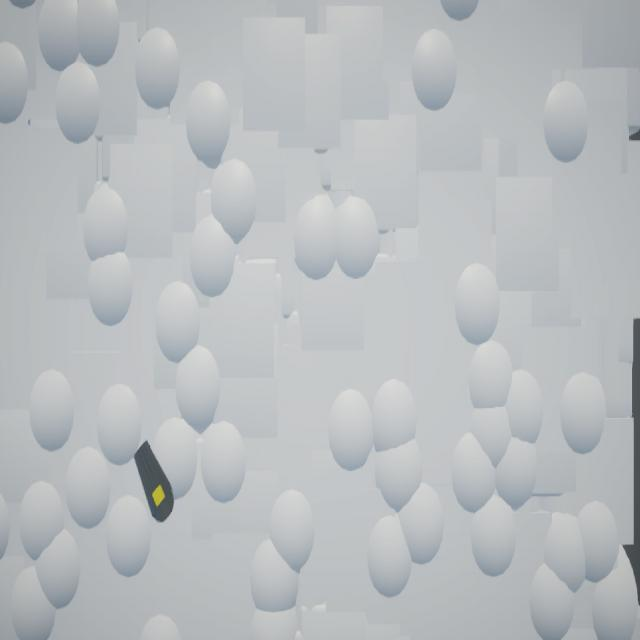handle_folk: (134, 440, 175, 524)
